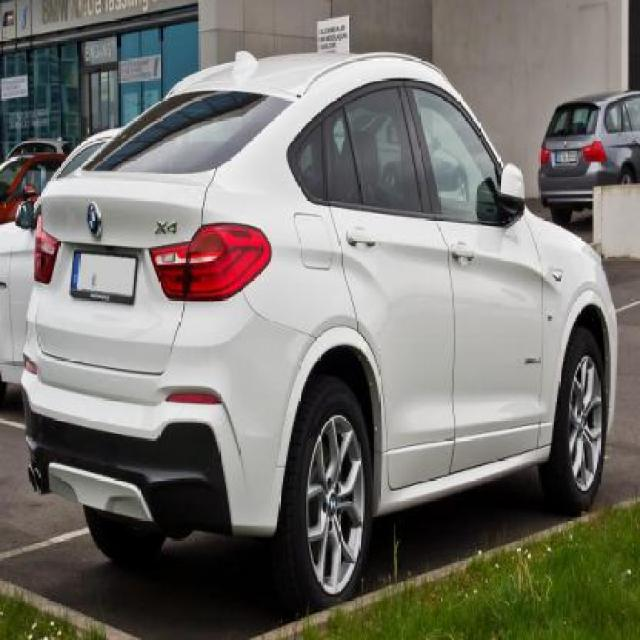License-Plates: (71, 250, 138, 306)
